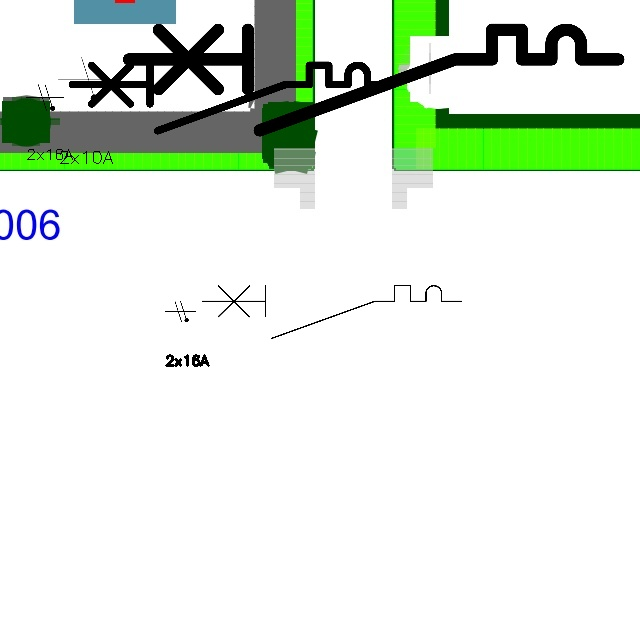interruptor_termomagnetico: (116, 17, 631, 143), (64, 57, 400, 139), (195, 279, 467, 345)
